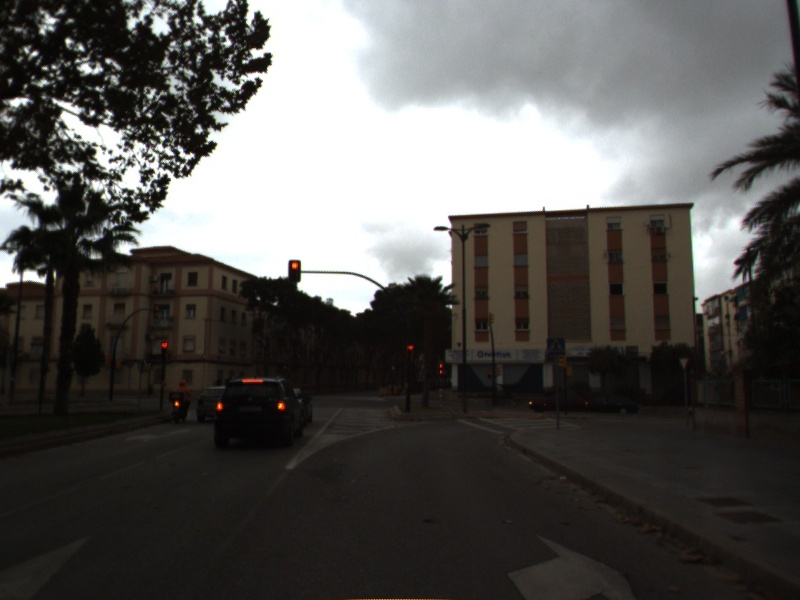RIGHT: (504, 530, 640, 600)
